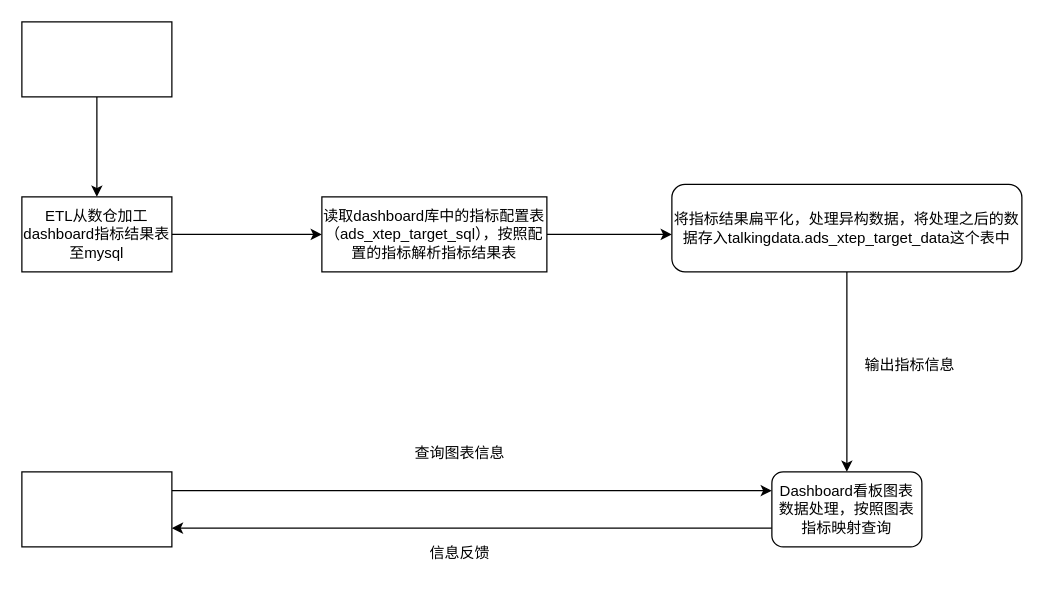
Image size: 1044x594. Some labels were removed from this diagram. The centre of each missing label's shape, as x and y in pixels:
azkaban周任务调度: the point at 96,59
用户: the point at 96,509
